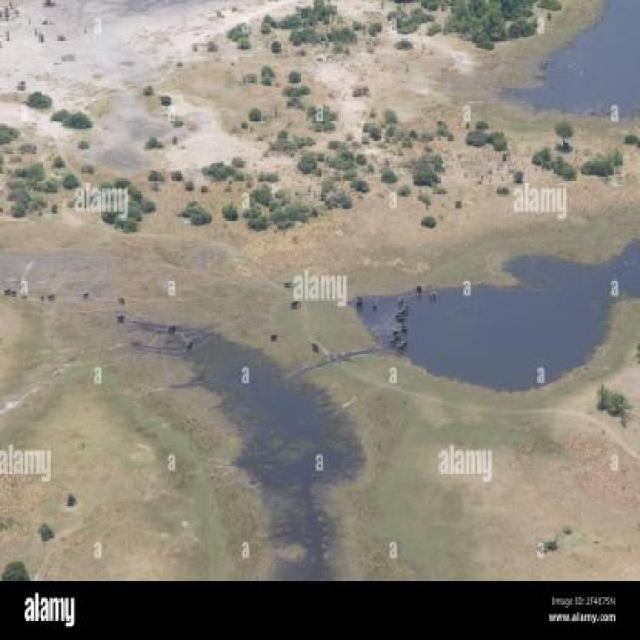elephant: (281, 278, 297, 290), (290, 296, 301, 312), (166, 323, 177, 337), (116, 312, 125, 328), (309, 341, 320, 354), (413, 282, 424, 293), (399, 338, 408, 349), (3, 287, 11, 299), (187, 338, 195, 350), (270, 331, 278, 343), (400, 302, 412, 310), (388, 336, 398, 344), (434, 290, 441, 301), (396, 315, 407, 322), (355, 300, 363, 309), (118, 294, 125, 304), (83, 289, 89, 300), (395, 333, 403, 341), (397, 345, 406, 352), (49, 291, 54, 303), (396, 312, 406, 318), (392, 328, 402, 334), (12, 286, 17, 297), (357, 293, 363, 302), (372, 302, 379, 309), (401, 324, 408, 331), (426, 290, 432, 298), (398, 296, 404, 304), (39, 293, 44, 302), (399, 308, 406, 314)
